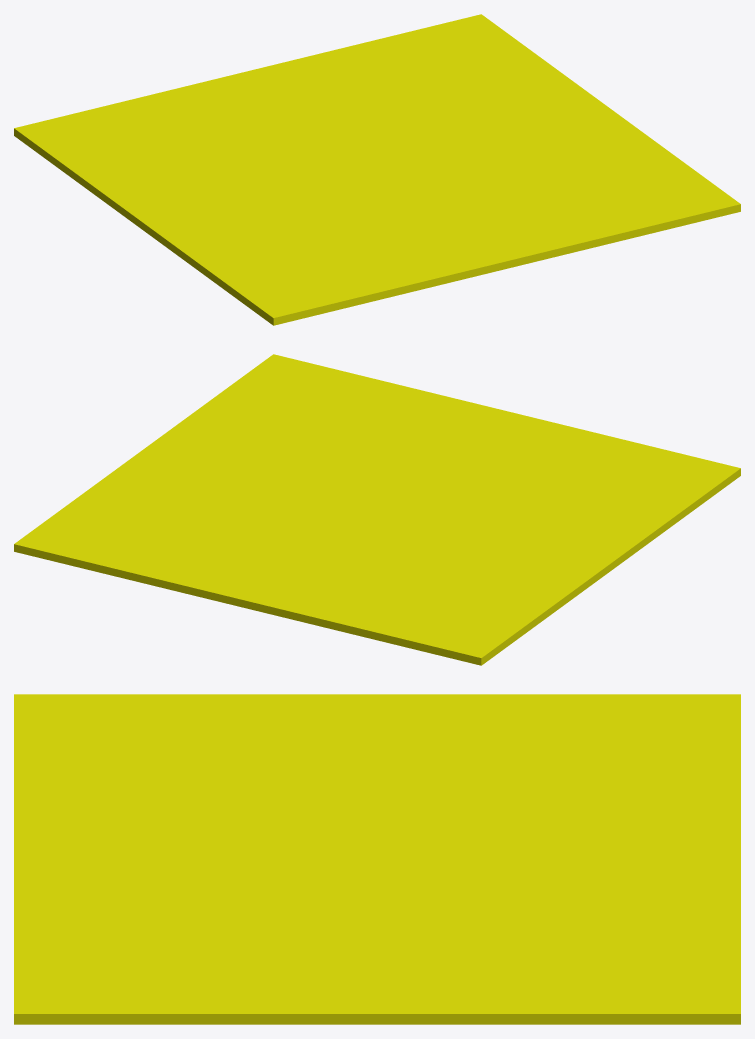
File: ground_3x3.glb
3 views of the same model, one above another, from view 1: azimuth 30°, elevation 25°; view 2: azimuth 150°, elevation 25°; view 3: azimuth 270°, elevation 25° (orthographic). The views are drawn at different scales.
Parts seen in each view (by area): view 1: ground_4x4; view 2: ground_4x4; view 3: ground_4x4.
Boxes of the visible parts, bbox=[...] form: ground_4x4: bbox=[14, 14, 740, 325]; ground_4x4: bbox=[14, 354, 740, 665]; ground_4x4: bbox=[14, 694, 740, 1024].
Size of the model in its own units: 6.5 by 0.1009 by 6.25.
1 material, 1 textured.
